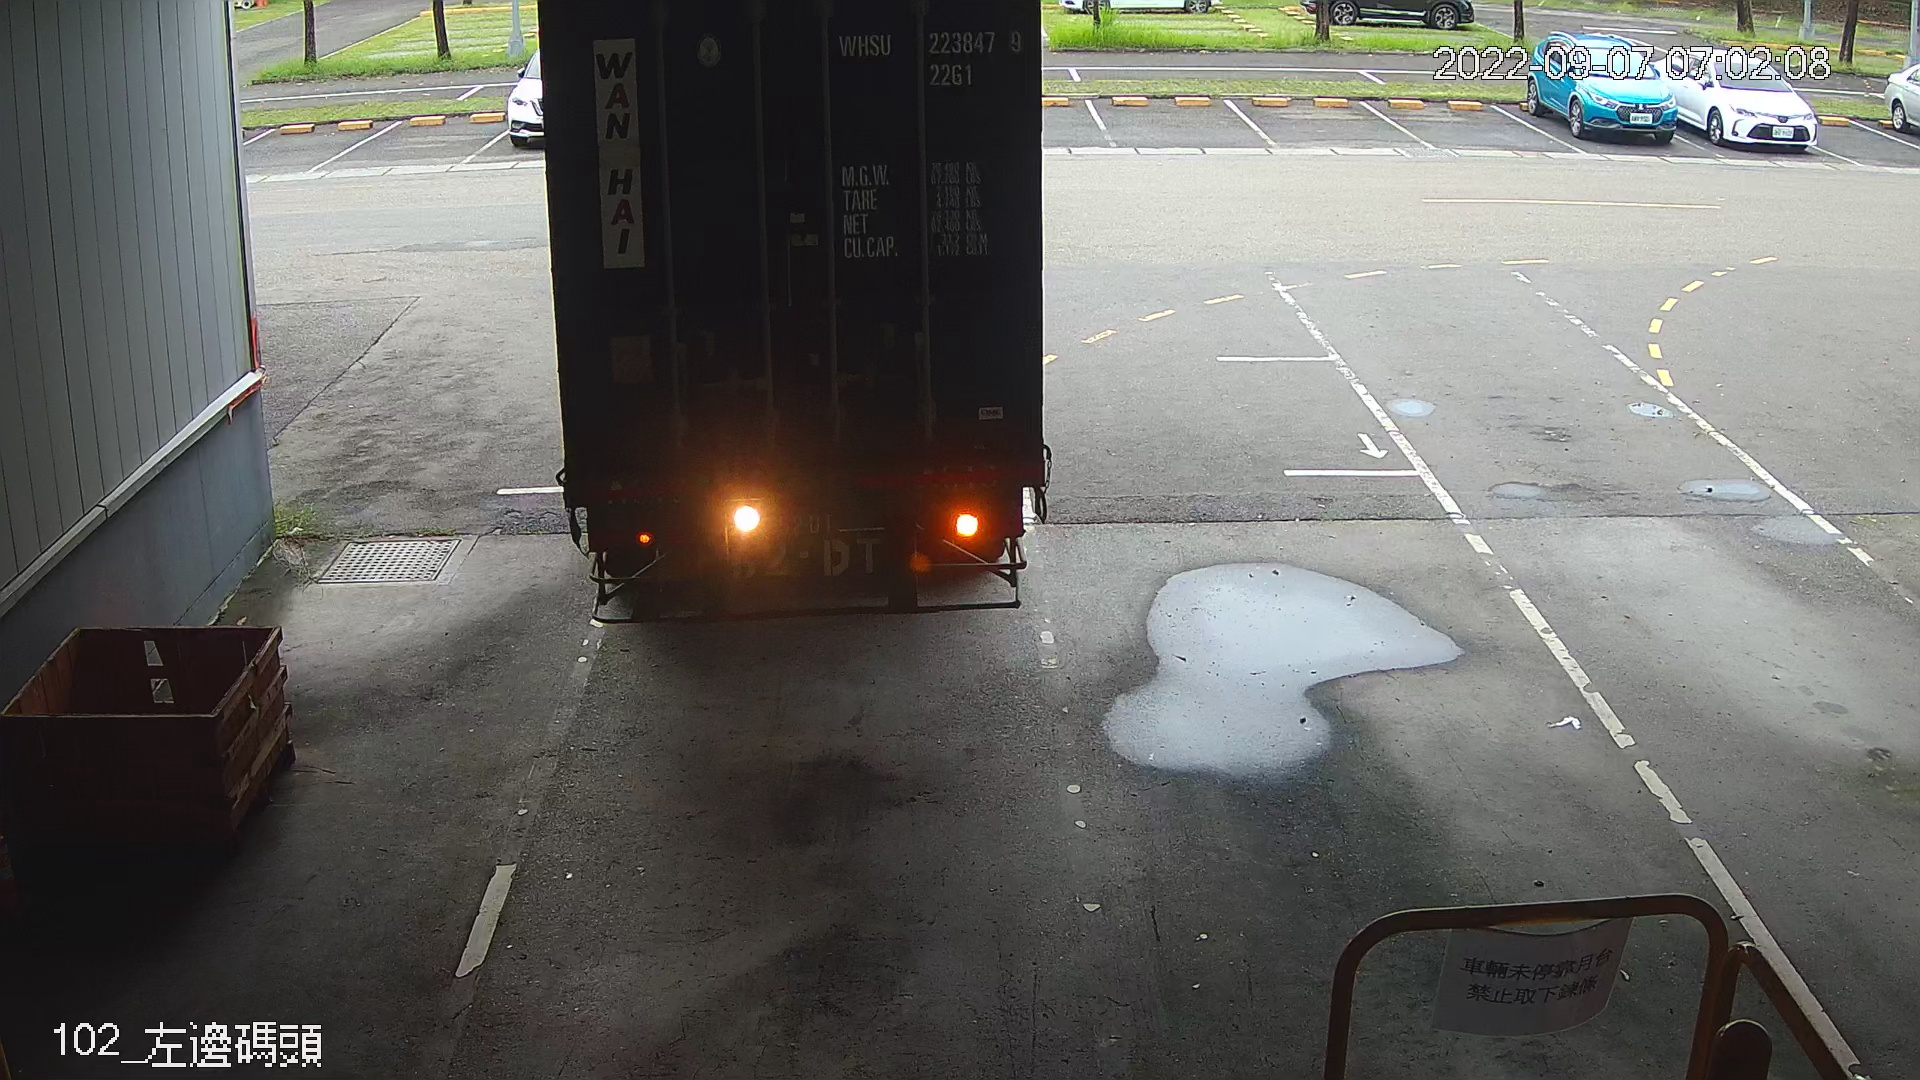container: (831, 20, 1035, 98)
